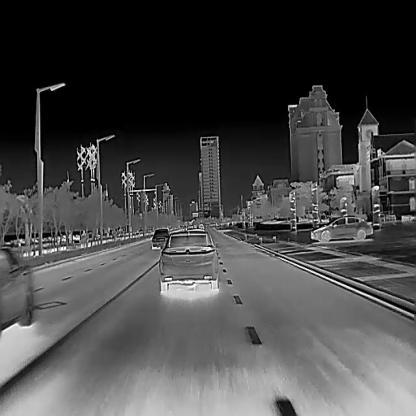car: (157, 228, 220, 292), (0, 246, 34, 331), (309, 214, 372, 241), (151, 226, 168, 247), (385, 211, 396, 220), (198, 221, 204, 230)
